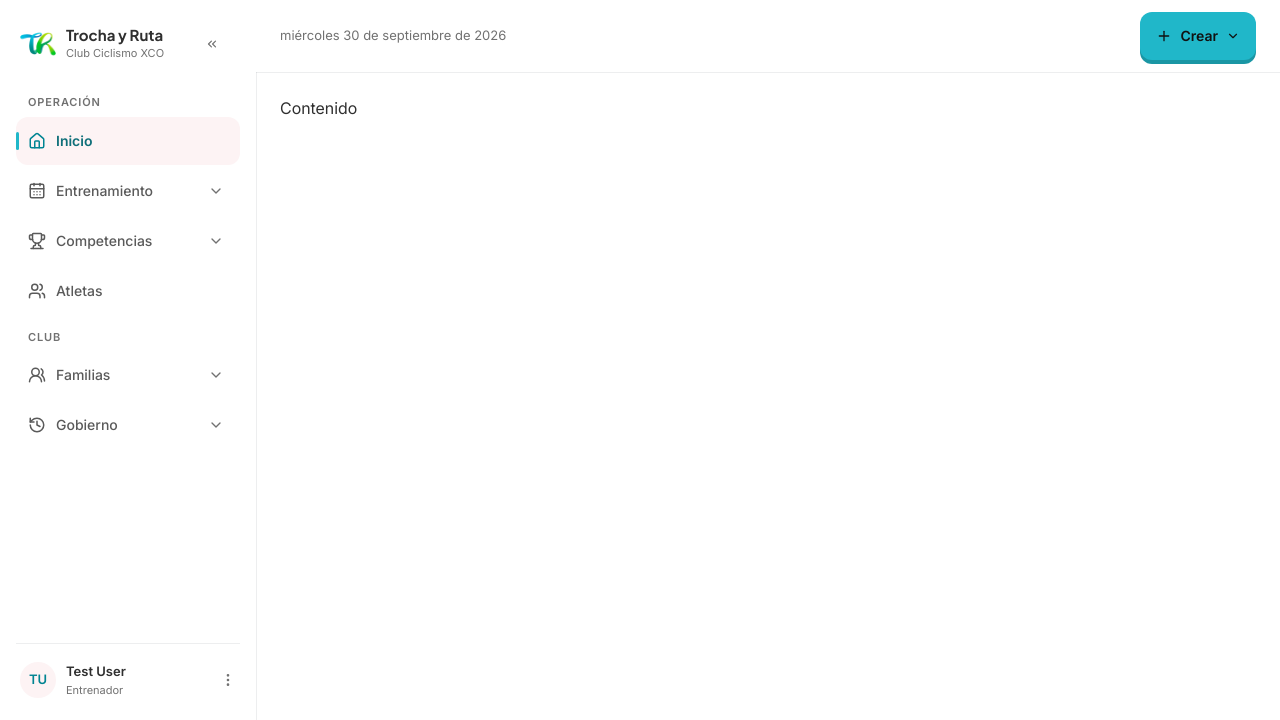
AppShell › shell rediseñado (feature 035) › coach: contraer lleva la barra al riel de 72px y deja el menú de usuario como avatar
Click the button named "Contraer navegación" at (212, 44), box 188,20 -> 236,68
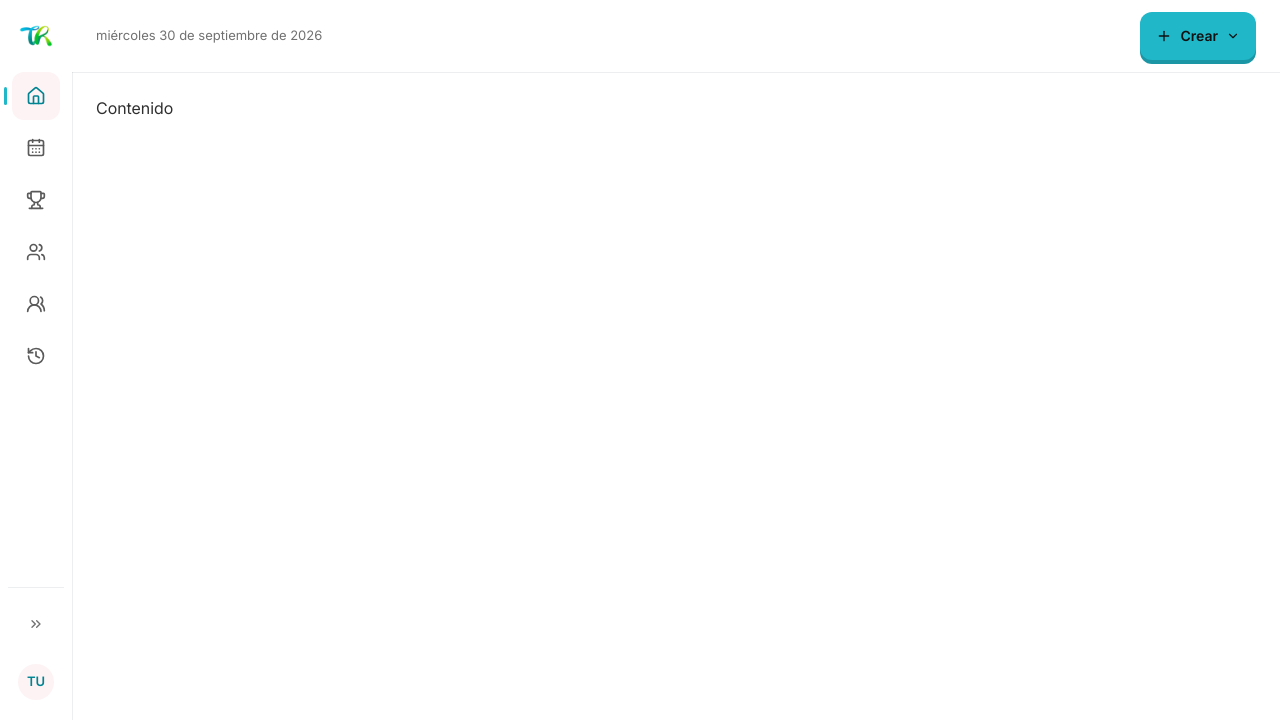
Expected: the button named "Expandir navegación" is shown, 12,600 -> 60,648
